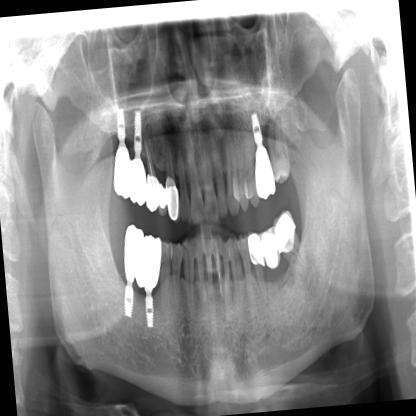Bicon: (246, 104, 265, 148), (130, 106, 146, 158), (121, 276, 137, 322), (142, 289, 158, 334), (113, 106, 130, 144)
